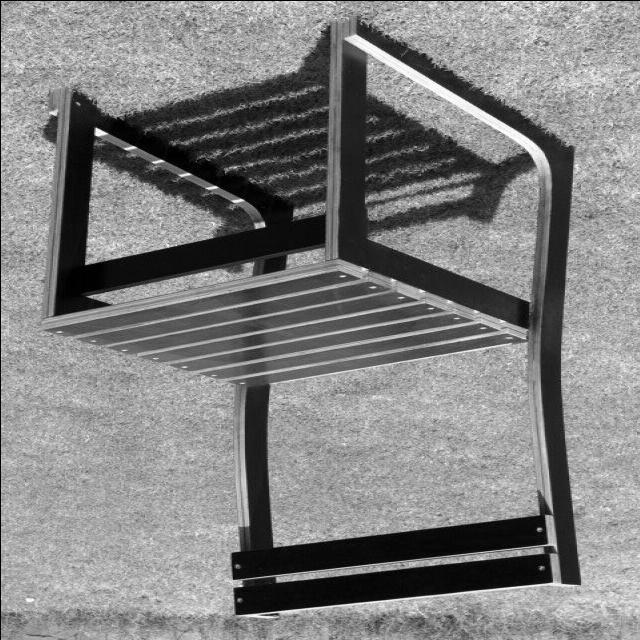chair: (32, 13, 602, 620)
